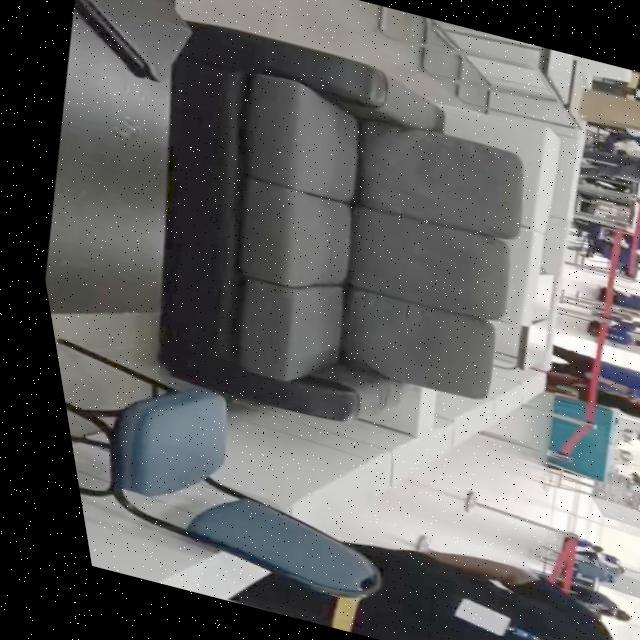sandalye: (47, 338, 360, 596), (161, 64, 522, 240), (152, 162, 502, 322), (153, 259, 484, 398)
